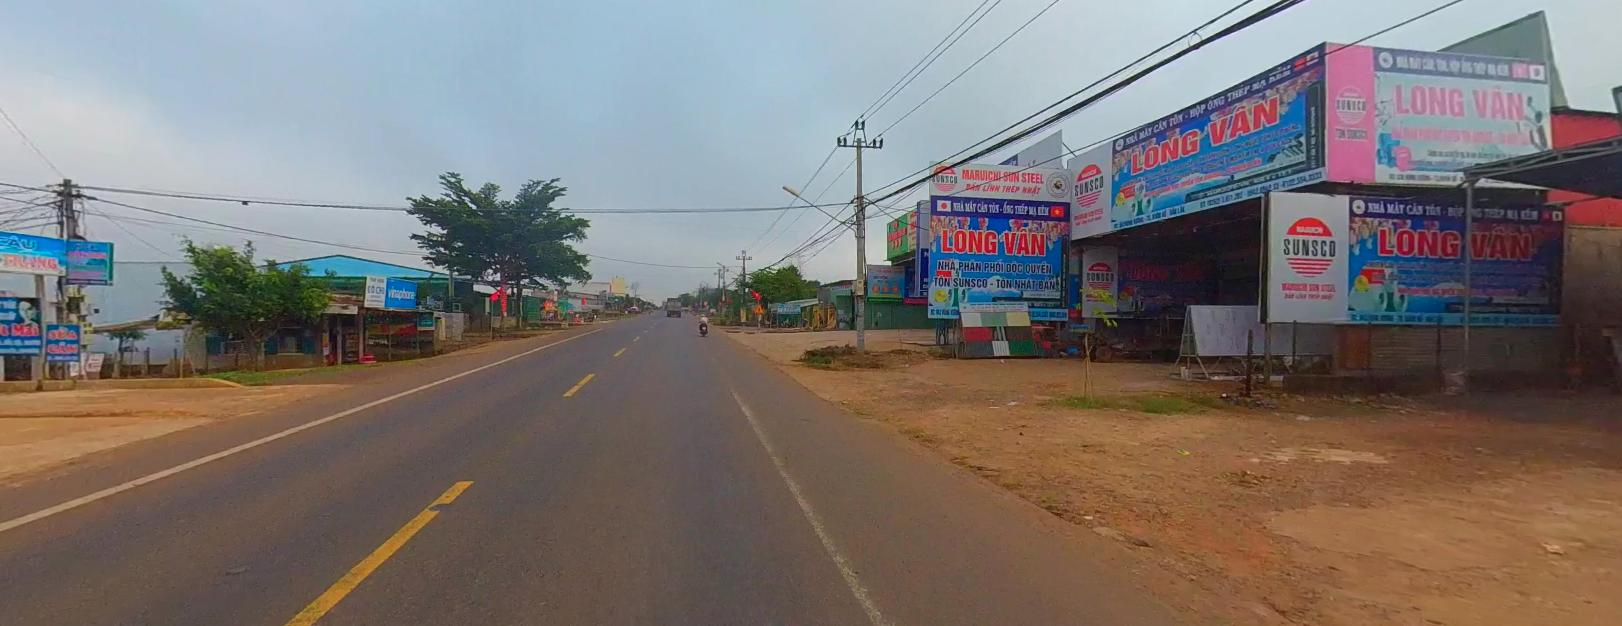Nguy hiem: (753, 302, 765, 312)
